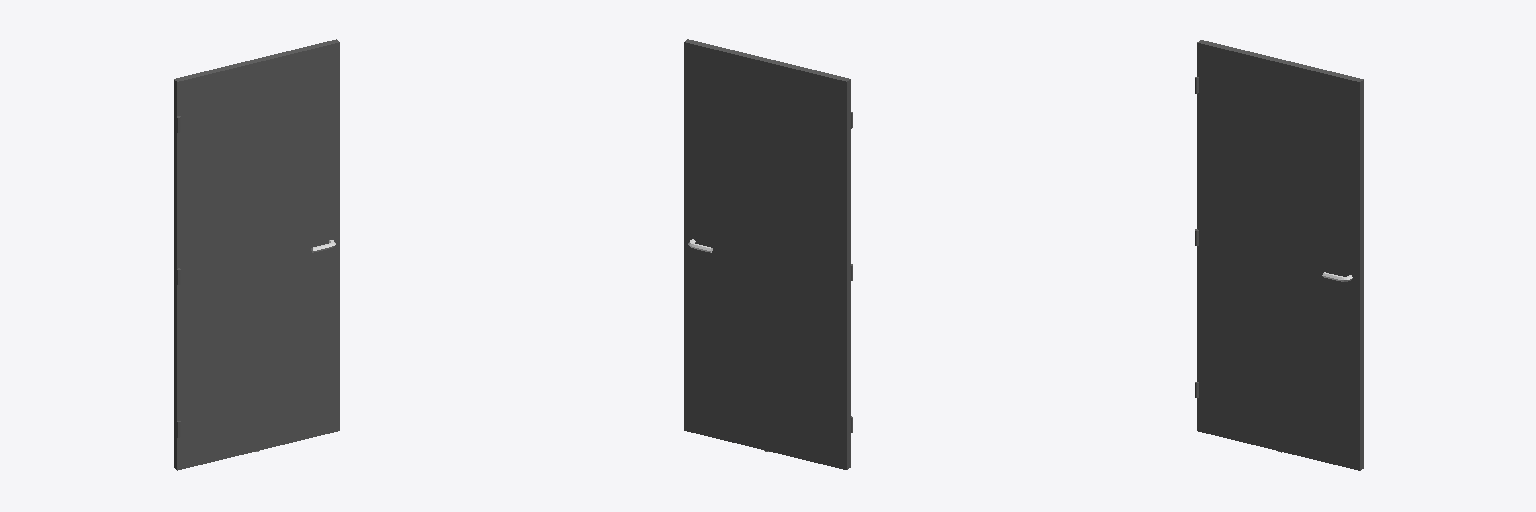
Rendered from Door1_new.obj.
3 renders of one model, left to right at view 1: azimuth 30°, elevation 25°; view 2: azimuth 150°, elevation 25°; view 3: azimuth 330°, elevation 25°, orthographic.
Parts seen in each view (by area): view 1: Porte_6; view 2: Porte_6; view 3: Porte_6.
Boxes of the visible parts, <box> form: Porte_6: <box>174,39,339,470</box>; Porte_6: <box>684,39,850,469</box>; Porte_6: <box>1197,40,1363,470</box>.
Size of the model in its own units: 91.09 by 206 by 14.6.